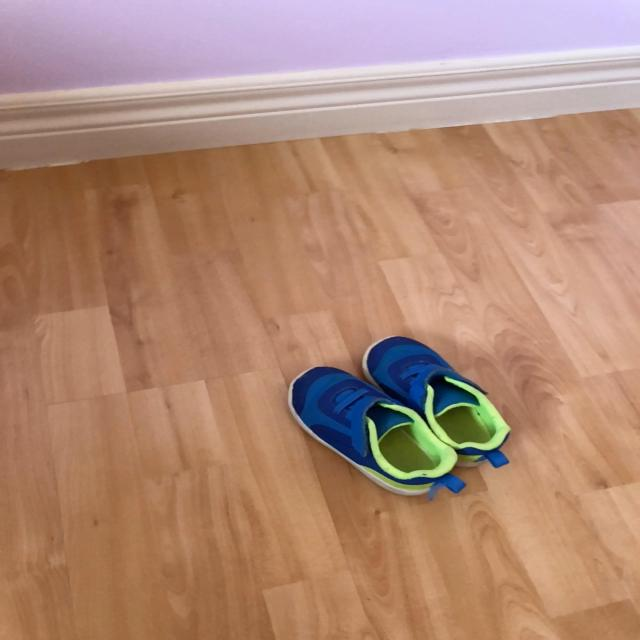shoe: (288, 367, 507, 499), (361, 337, 512, 475)
